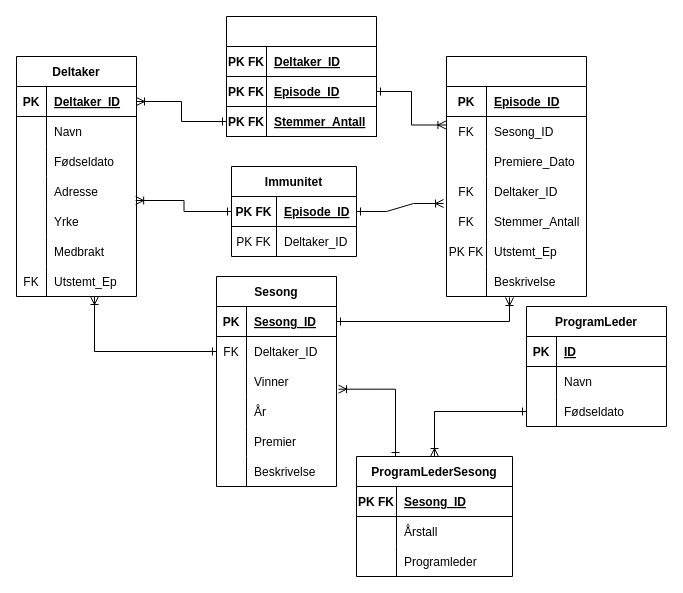
The diagram is 683 pixels wide and 593 high, and some of its shapes have lost their labels. Each missing label, with the box of its shape:
Episodene: (446, 56, 586, 296)
Øyråd_Stemmer: (226, 16, 376, 136)
